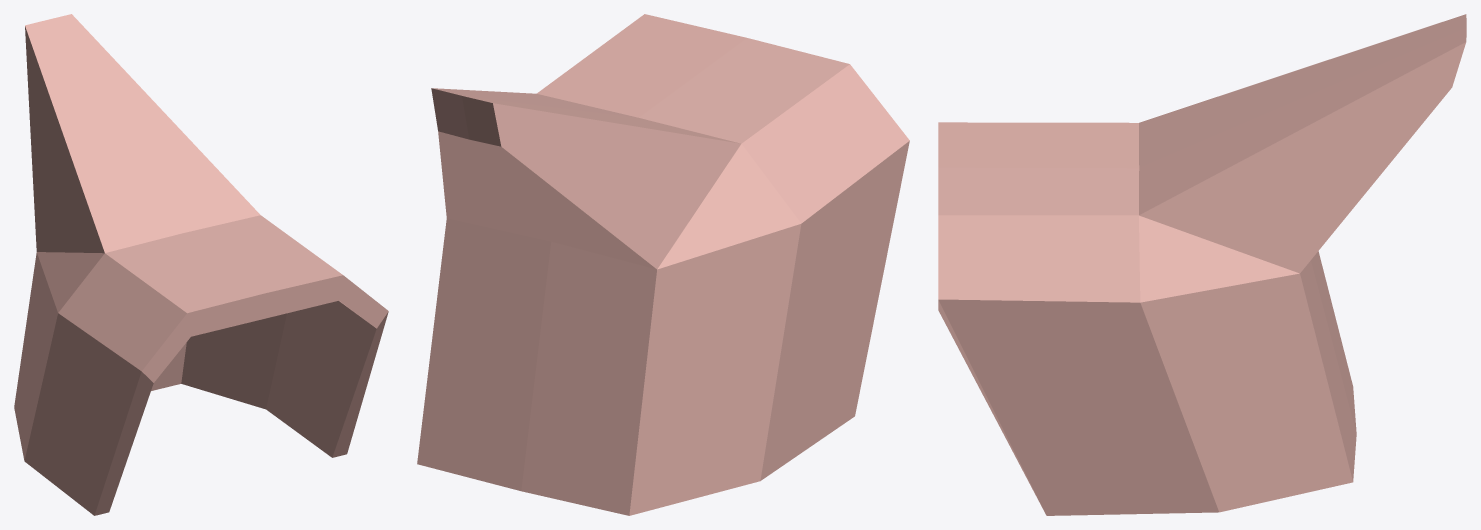
Rendered from cb_shoulder_2.gltf.
The picture shows the model from 3 angles, left to right: view 1: azimuth 30°, elevation 25°; view 2: azimuth 150°, elevation 25°; view 3: azimuth 270°, elevation 25°; orthographic projection. The views are drawn at different scales.
Parts seen in each view (by area): view 1: Sphere.006; view 2: Sphere.006; view 3: Sphere.006.
Part boxes in pixels (<box>): Sphere.006: <box>14,14,388,515</box>; Sphere.006: <box>417,14,909,515</box>; Sphere.006: <box>938,14,1466,515</box>.
Size of the model in its own units: 1.24 by 1.59 by 1.84.
